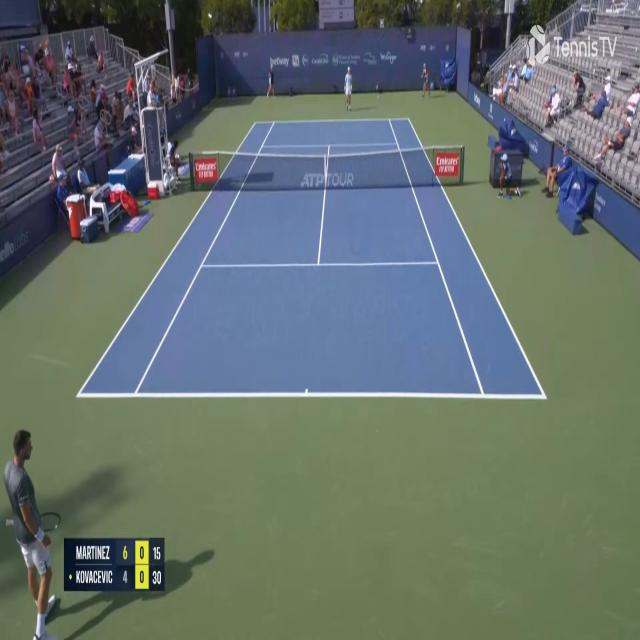tennis-player: (2, 423, 63, 637), (344, 65, 354, 112)
